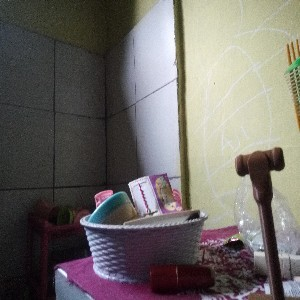palu: (235, 145, 286, 300)
